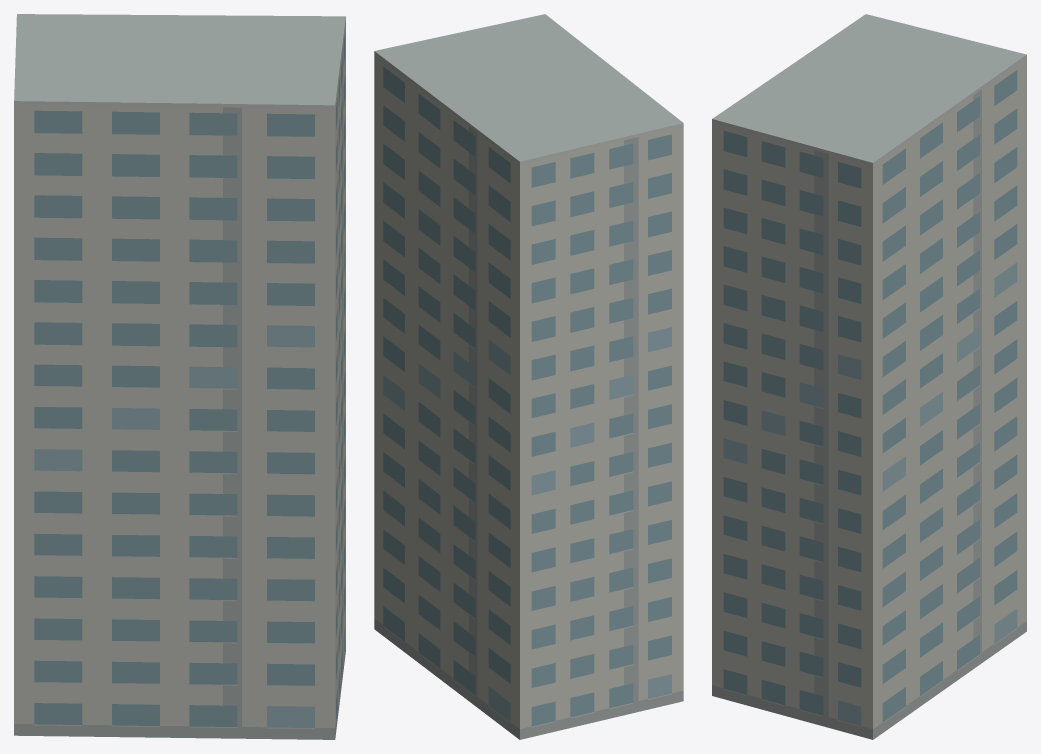
File: residential-ab2bf80c-56aa-474b-b1de-1a24a136f367.glb
3 views of the same model, side by side, from view 1: azimuth 30°, elevation 25°; view 2: azimuth 150°, elevation 25°; view 3: azimuth 270°, elevation 25° (orthographic). The views are drawn at different scales.
Visible parts, largest first — view 1: residential-ab2bf80c-56aa-474b-b1de-1a24a136f367.tmp; view 2: residential-ab2bf80c-56aa-474b-b1de-1a24a136f367.tmp; view 3: residential-ab2bf80c-56aa-474b-b1de-1a24a136f367.tmp.
Part boxes in pixels (box(x1,y1,x2,y2)): residential-ab2bf80c-56aa-474b-b1de-1a24a136f367.tmp: box(14, 14, 345, 739); residential-ab2bf80c-56aa-474b-b1de-1a24a136f367.tmp: box(374, 14, 683, 739); residential-ab2bf80c-56aa-474b-b1de-1a24a136f367.tmp: box(712, 14, 1026, 739).
Size of the model in its own units: 24.37 by 44 by 21.76.
